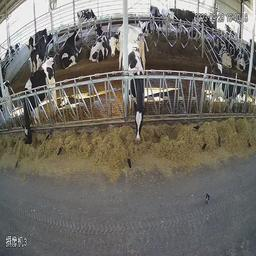cow: (23, 57, 57, 144), (128, 45, 153, 144), (209, 60, 246, 114), (29, 31, 53, 66), (92, 23, 111, 63), (61, 32, 81, 69), (212, 36, 230, 63), (76, 7, 96, 28), (164, 4, 174, 40), (151, 5, 163, 35), (140, 19, 152, 40)
